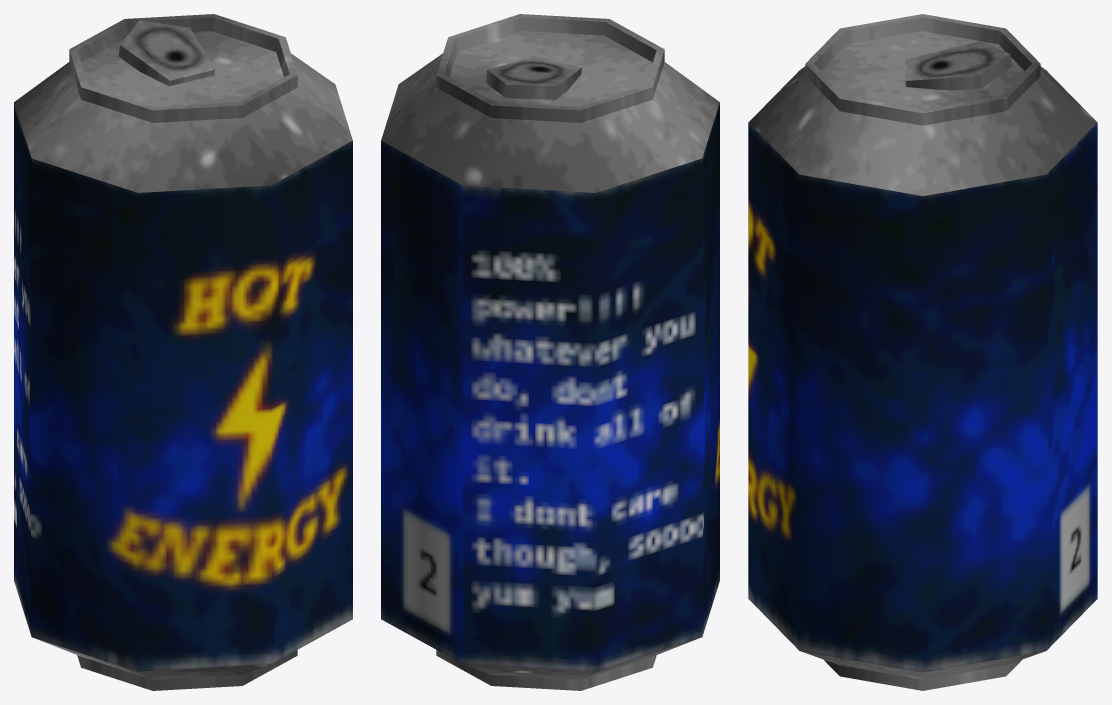
Rendered from SodaCan.fbx.
The picture shows the model from 3 angles, left to right: view 1: azimuth 30°, elevation 25°; view 2: azimuth 150°, elevation 25°; view 3: azimuth 270°, elevation 25°; orthographic projection.
Visible parts, largest first — view 1: Can; view 2: Can; view 3: Can.
Part boxes in pixels (x1,y1,x2,y2): Can: (14,14,352,690); Can: (381,14,719,690); Can: (748,14,1097,690).
Size of the model in its own units: 43.29 by 80.38 by 43.29.
